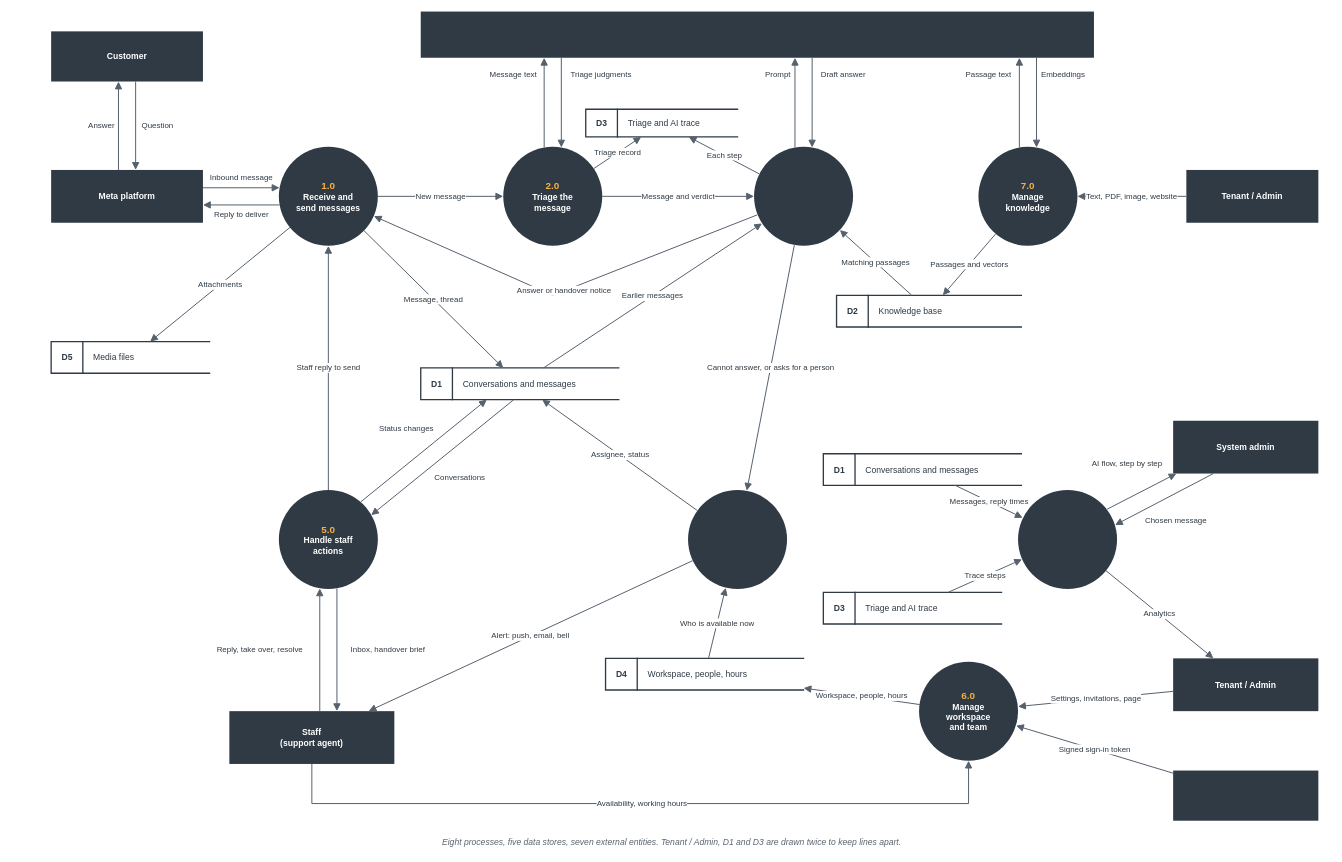
The diagram is 1342 pixels wide and 862 high, and some of its shapes have lost their labels. The centre of each missing label's shape, as x and y in pixels:
3.0 Answer with AI: the point at 803,196
4.0 Hand over to staff: the point at 737,539
8.0 Report and trace: the point at 1067,539
AI model services: the point at 757,34
Google (sign-in): the point at 1245,795
